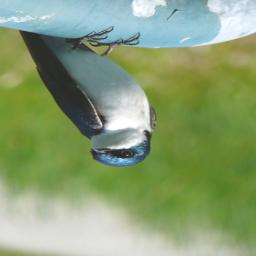Swallow: (19, 25, 161, 169)
